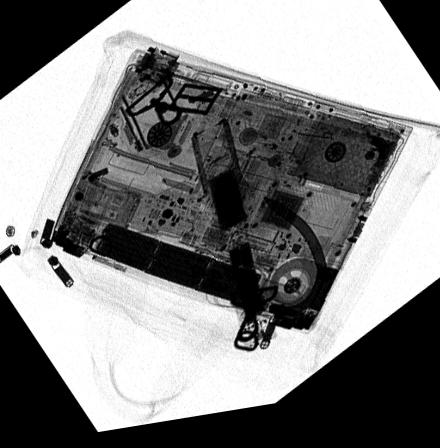Baton: (188, 123, 276, 362)
